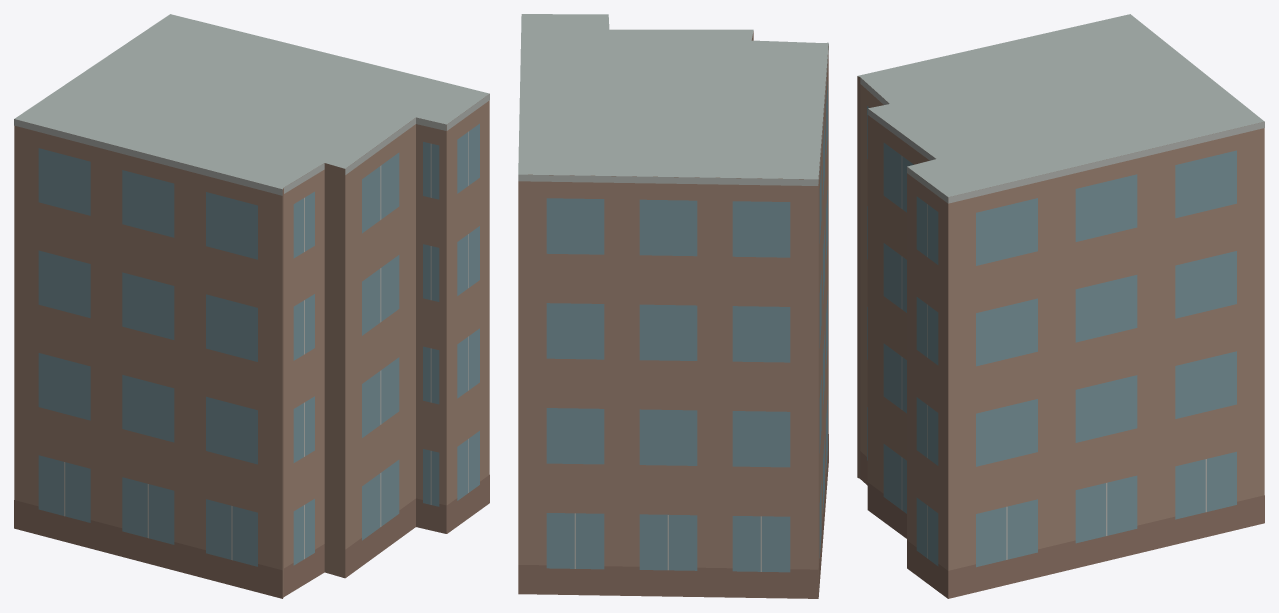
Rendered from survey-upis-32760609.glb.
The picture shows the model from 3 angles, left to right: view 1: azimuth 30°, elevation 25°; view 2: azimuth 150°, elevation 25°; view 3: azimuth 270°, elevation 25°; orthographic projection. The views are drawn at different scales.
Visible parts, largest first — view 1: survey-upis-32760609.tmp; view 2: survey-upis-32760609.tmp; view 3: survey-upis-32760609.tmp.
Part boxes in pixels (x1,y1,x2,y2): survey-upis-32760609.tmp: [14, 14, 489, 598]; survey-upis-32760609.tmp: [518, 14, 828, 598]; survey-upis-32760609.tmp: [857, 14, 1264, 598].
Bounding box in the file's own units: 14.88 × 15.2 × 13.99.
